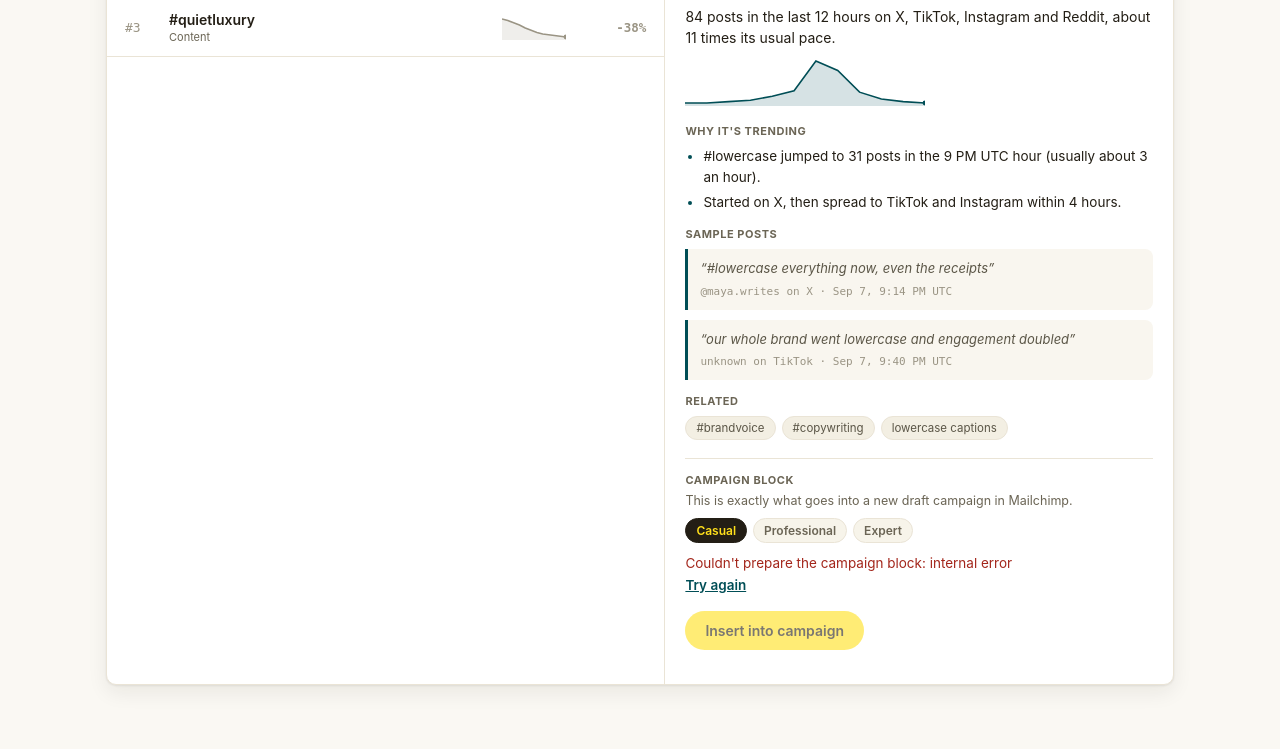
Scenario: a failed preview offers a retry, and insert waits for it
(page scrolled)
Expected: the message shows "Couldn't prepare the campaign block: internal error", [685,555,1012,593]
Expected: the button "Insert into campaign" is disabled, [685,611,864,650]
Click the button "Try again".
click(716, 585)  # box [685,577,746,593]
(page scrolled)
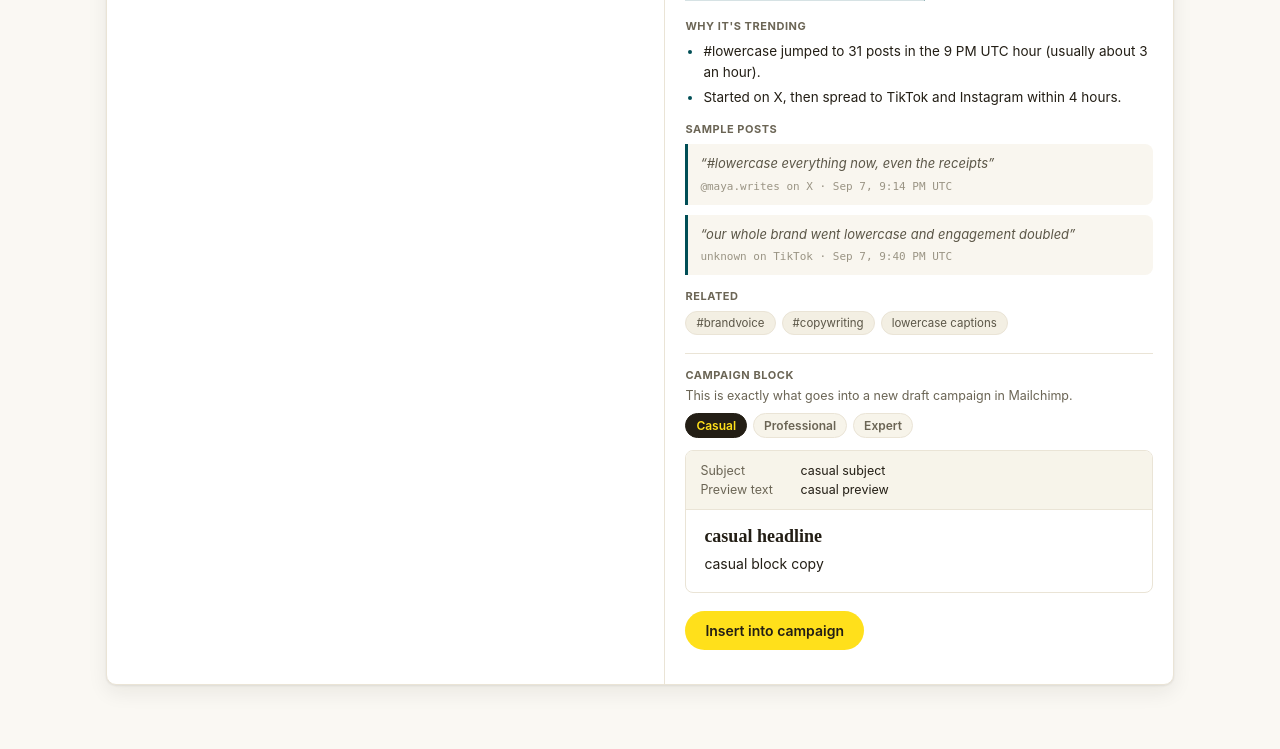
Result: the text "casual subject" is shown at [800,463,885,478]
Result: the button "Insert into campaign" is enabled at [685,611,864,650]
